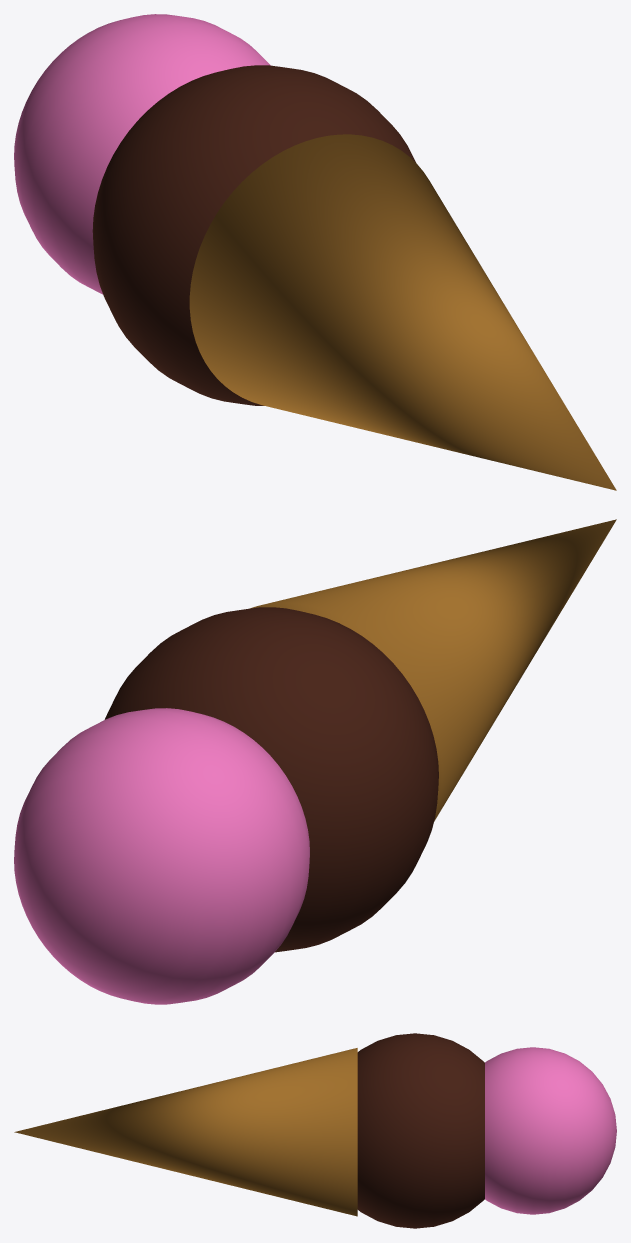
File: icecream.fbx
3 views of the same model, one above another, from view 1: azimuth 30°, elevation 25°; view 2: azimuth 150°, elevation 25°; view 3: azimuth 270°, elevation 25° (orthographic). The views are drawn at different scales.
Parts seen in each view (by area): view 1: icecream; view 2: icecream; view 3: icecream.
Part boxes in pixels (x1,y1,x2,y2): icecream: (14,14,616,490); icecream: (14,519,616,1004); icecream: (14,1033,616,1228).
Size of the model in its own units: 292 by 292 by 902.
